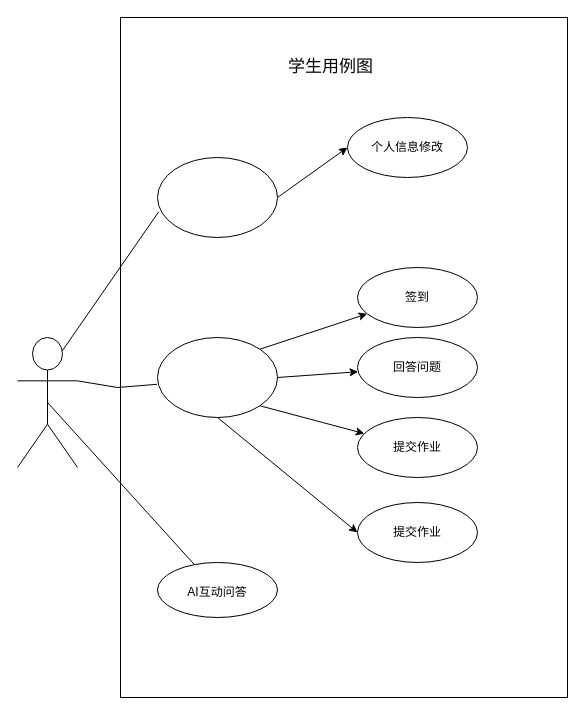
This 585x715 diagram has some shape labels left out. Each missing label, with the box of its shape:
student': (16, 336, 78, 468)
个人信息管理: (156, 156, 278, 238)
课程功能管理: (156, 336, 278, 418)
